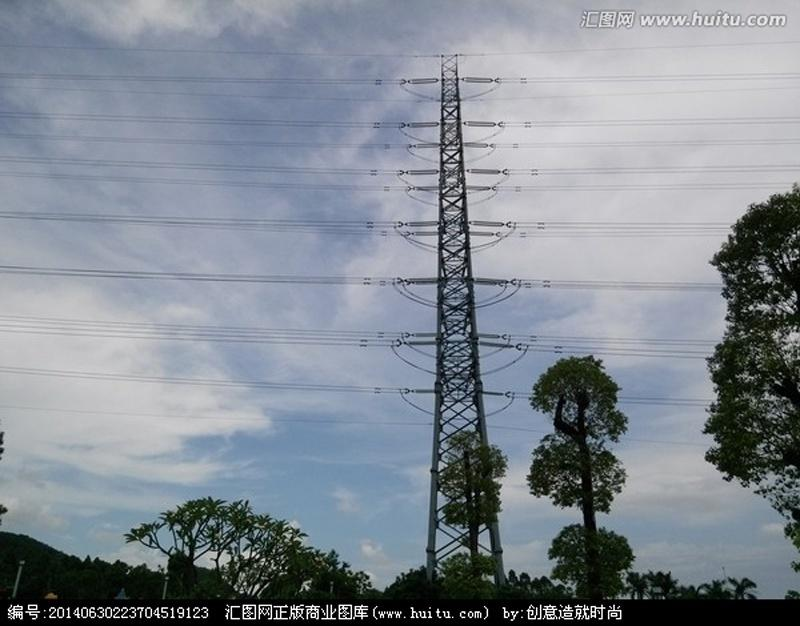power_tower: (375, 43, 538, 603)
